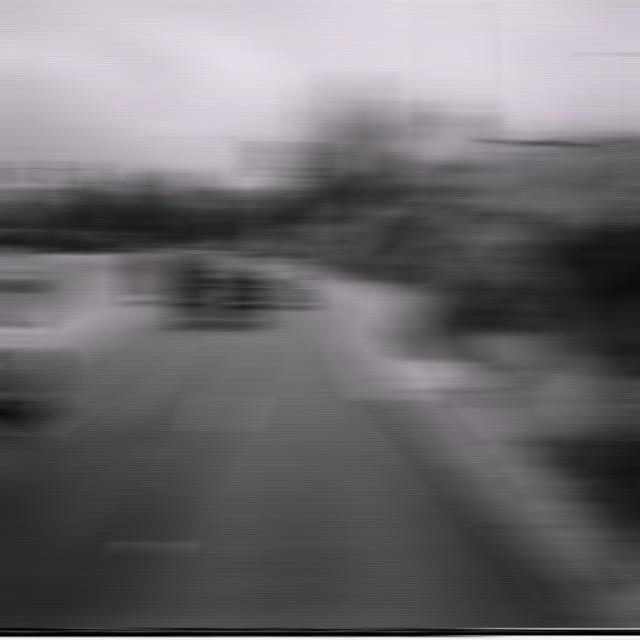pedestrianCrossing: (424, 87, 488, 169)
